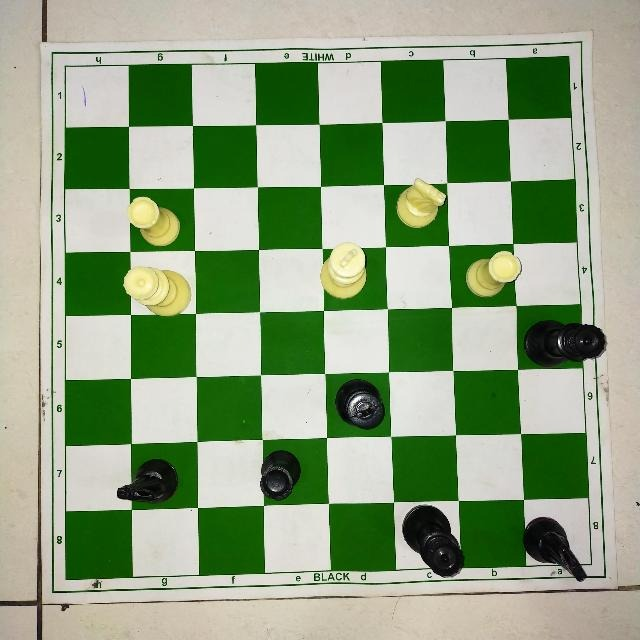black-king: (334, 377, 385, 430)
black-knight: (522, 516, 592, 586), (115, 456, 179, 510)
black-queen: (399, 502, 467, 577), (522, 318, 608, 369)
black-rook: (259, 446, 309, 502)
white-king: (319, 242, 371, 300)
white-knight: (392, 177, 448, 232)
white-queen: (119, 263, 192, 320)
white-rook: (124, 193, 187, 250), (463, 249, 522, 301)
